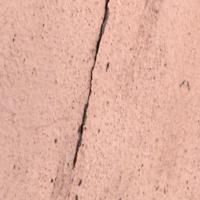crack: (68, 0, 128, 187)
